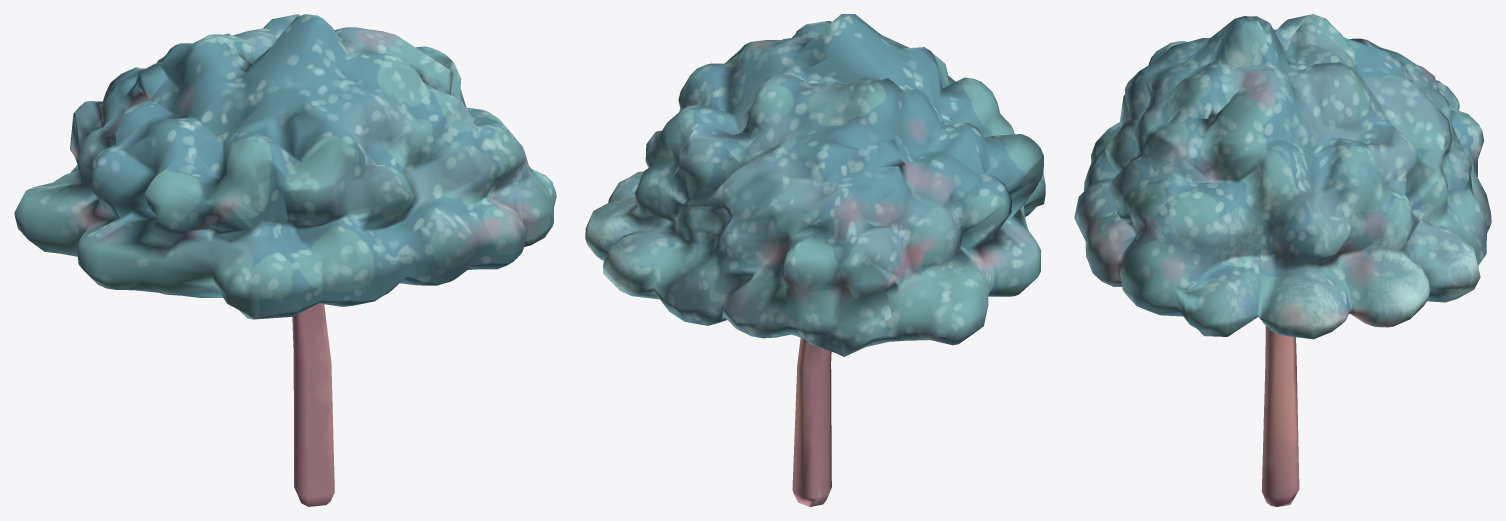
The model's file is tree_mod.fbx.
3 renders of one model, left to right at view 1: azimuth 30°, elevation 25°; view 2: azimuth 150°, elevation 25°; view 3: azimuth 270°, elevation 25°, orthographic. The views are drawn at different scales.
Parts seen in each view (by area): view 1: the_tree1; view 2: the_tree1; view 3: the_tree1.
Part boxes in pixels (x1,y1,x2,y2): the_tree1: (14,14,556,506); the_tree1: (585,14,1045,506); the_tree1: (1074,14,1491,506).
Bounding box in the file's own units: 2.49 × 2.72 × 2.17.
